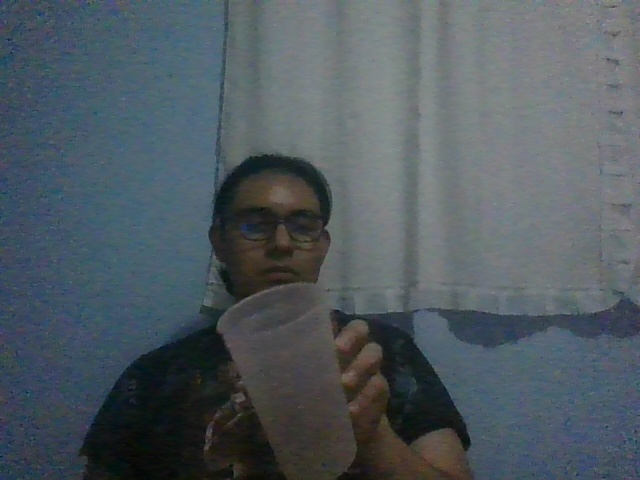vaso: (214, 281, 357, 480)
